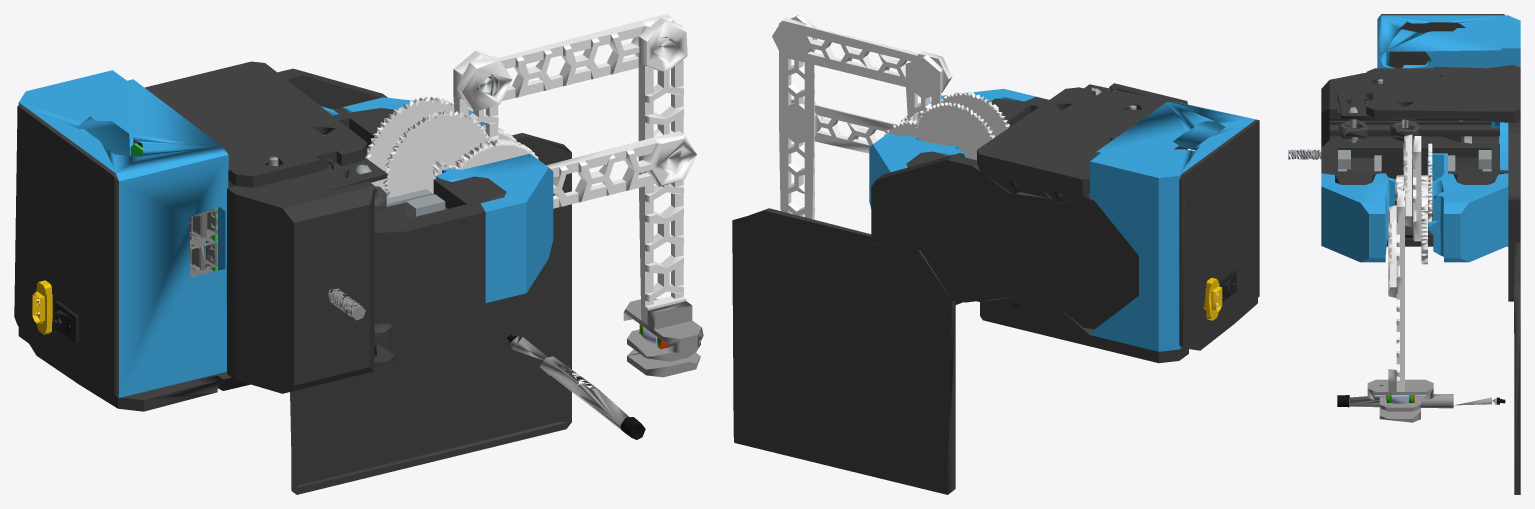
The model's file is model-lite.lod1.glb.
The picture shows the model from 3 angles, left to right: view 1: azimuth 30°, elevation 25°; view 2: azimuth 150°, elevation 25°; view 3: azimuth 270°, elevation 25°; orthographic projection. The views are drawn at different scales.
Visible parts, largest first — view 1: baseplate, intframe (2), Body37, lift stepper, Body1, Body3:22, Body1:42, Body1:31; view 2: baseplate, intframe (2), Body37, lift stepper, Body1:42; view 3: intframe (2), lift stepper, baseplate, Body37, Body1, Body3:22, Body1:14.
Part boxes in pixels (x1,y1,x2,y2): baseplate: (14,68,571,494); intframe (2): (18,70,553,397); Body37: (189,14,696,324); lift stepper: (145,61,447,368); Body1: (329,289,703,439); Body3:22: (269,74,500,317); Body1:42: (32,280,52,334); Body1:31: (54,301,78,343); baseplate: (732,83,1259,494); intframe (2): (869,88,1255,351); Body37: (772,14,1009,219); lift stepper: (977,84,1159,204); Body1:42: (1203,277,1222,320); intframe (2): (1321,15,1520,262); lift stepper: (1329,65,1520,238); baseplate: (1321,14,1520,494); Body37: (1388,134,1432,391); Body1: (1288,120,1505,422); Body3:22: (1288,78,1499,171); Body1:14: (1338,120,1420,141).
Bounding box in the file's own units: 35.14 × 26.05 × 17.86.
